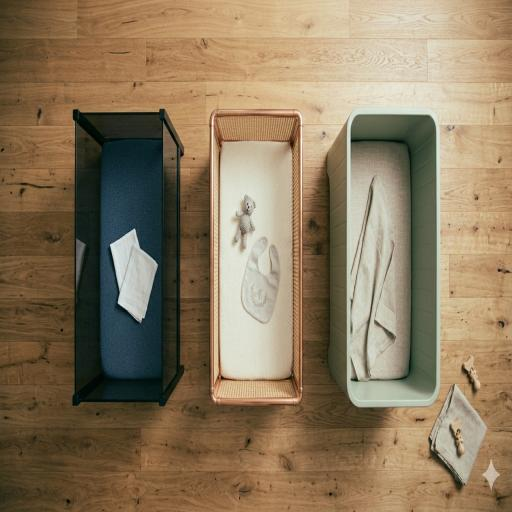crib: (327, 108, 440, 407), (73, 109, 184, 405), (220, 141, 293, 380)
